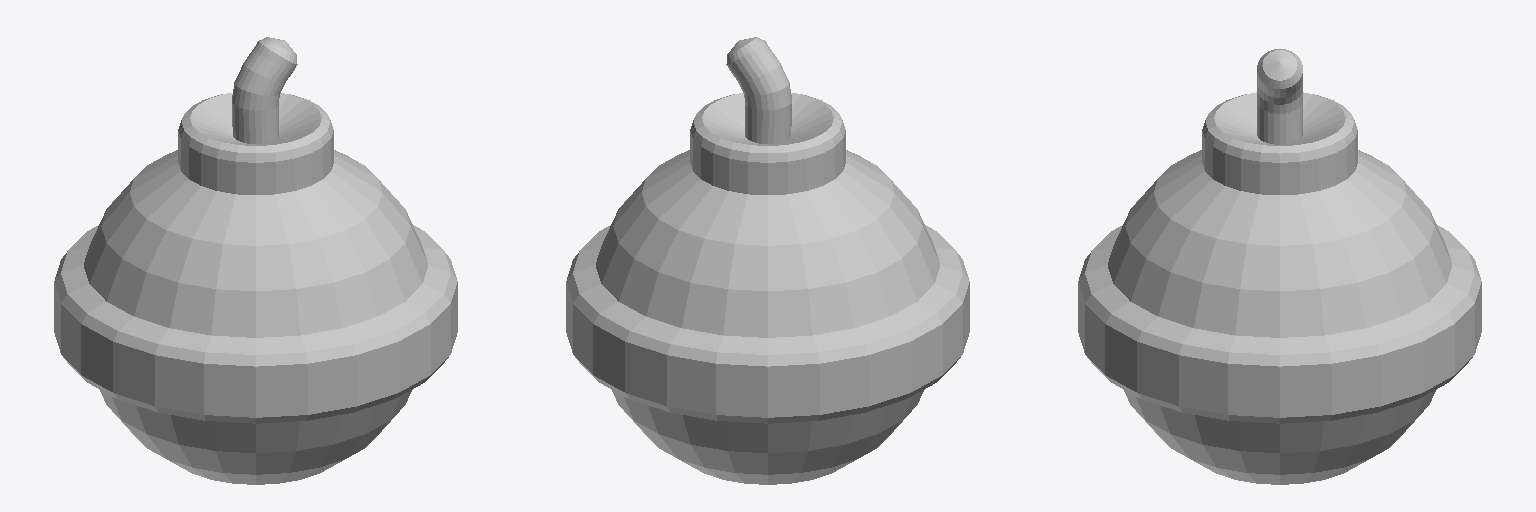
Rendered from bomb_teamRed.obj.
3 renders of one model, left to right at view 1: azimuth 30°, elevation 25°; view 2: azimuth 150°, elevation 25°; view 3: azimuth 270°, elevation 25°, orthographic.
Parts seen in each view (by area): view 1: bomb_teamRed_Sphere.012; view 2: bomb_teamRed_Sphere.012; view 3: bomb_teamRed_Sphere.012.
Part boxes in pixels (x1,y1,x2,y2): bomb_teamRed_Sphere.012: (54,37,457,484); bomb_teamRed_Sphere.012: (566,37,969,484); bomb_teamRed_Sphere.012: (1078,49,1481,484).
Bounding box in the file's own units: 1.13 × 1.31 × 1.13.